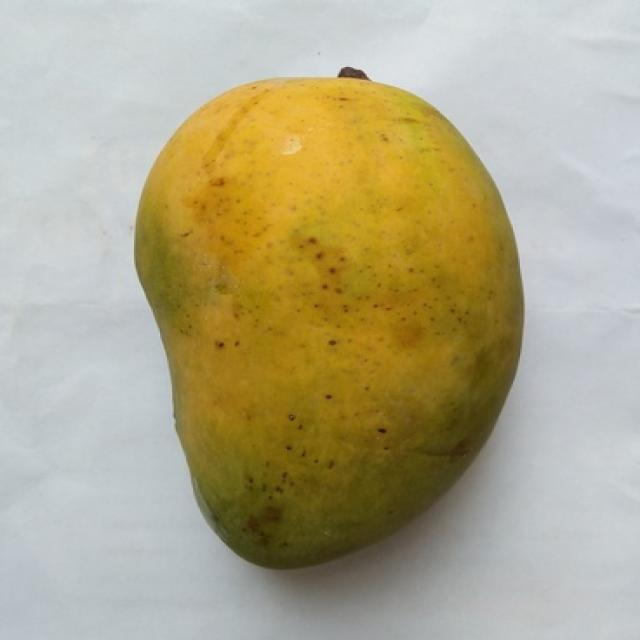Mango: (136, 78, 522, 566)
